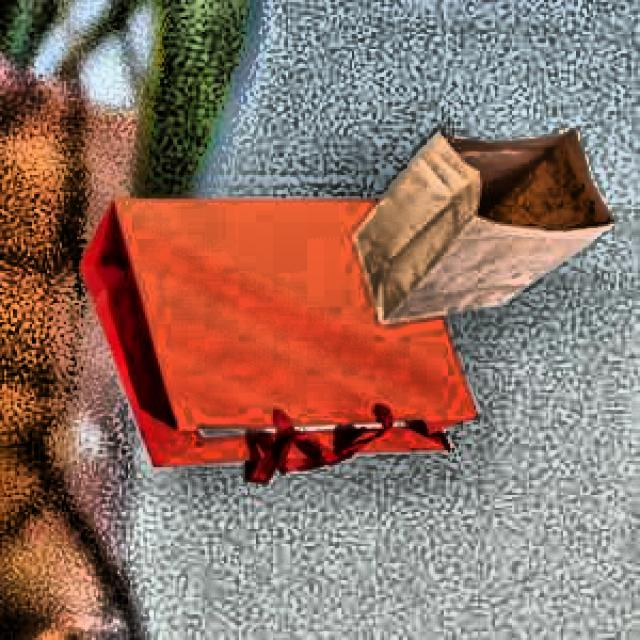Paper-bag: (53, 172, 492, 493), (335, 114, 623, 344)
